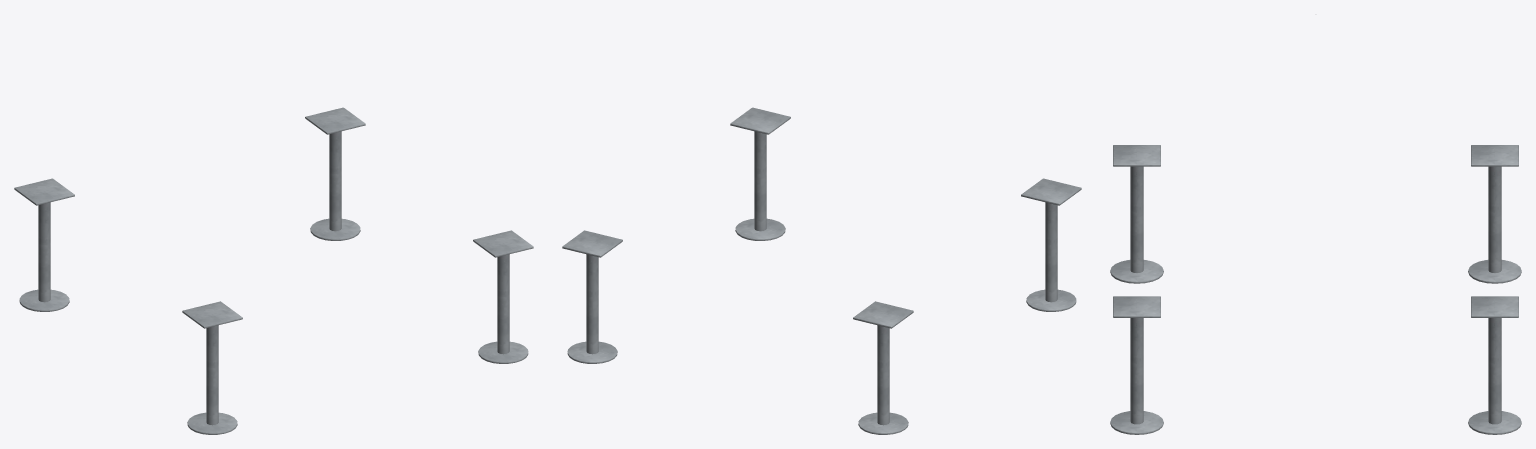
File: PIS-OUT-006_anim.glb
The picture shows the model from 3 angles, left to right: view 1: azimuth 30°, elevation 25°; view 2: azimuth 150°, elevation 25°; view 3: azimuth 270°, elevation 25°; orthographic projection. The views are drawn at different scales.
Parts seen in each view (by area): view 1: PIS-OUT-006_anim0; view 2: PIS-OUT-006_anim0; view 3: PIS-OUT-006_anim0.
Boxes of the visible parts, x1,y1,x2,y2 form: PIS-OUT-006_anim0: (14,107,533,434); PIS-OUT-006_anim0: (562,107,1081,434); PIS-OUT-006_anim0: (1110,145,1521,434).
Bounding box in the file's own units: 0.69 × 0.618 × 0.69.
Materials: 2 (1 with a texture image).
